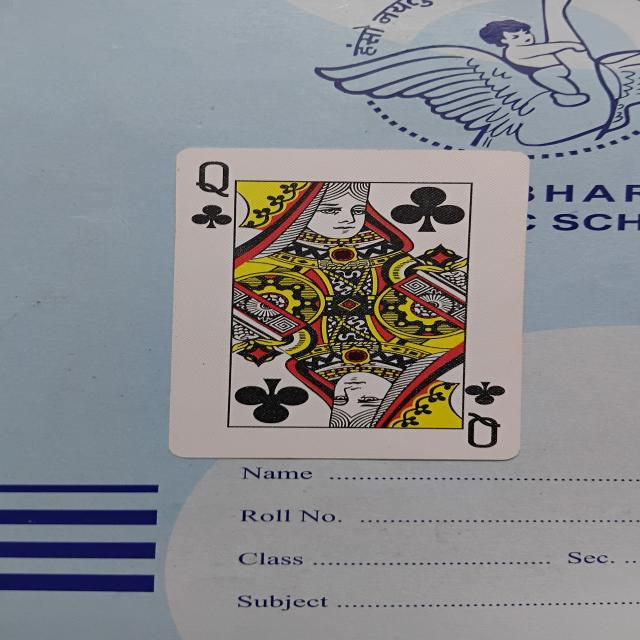QC: (171, 142, 521, 458)
